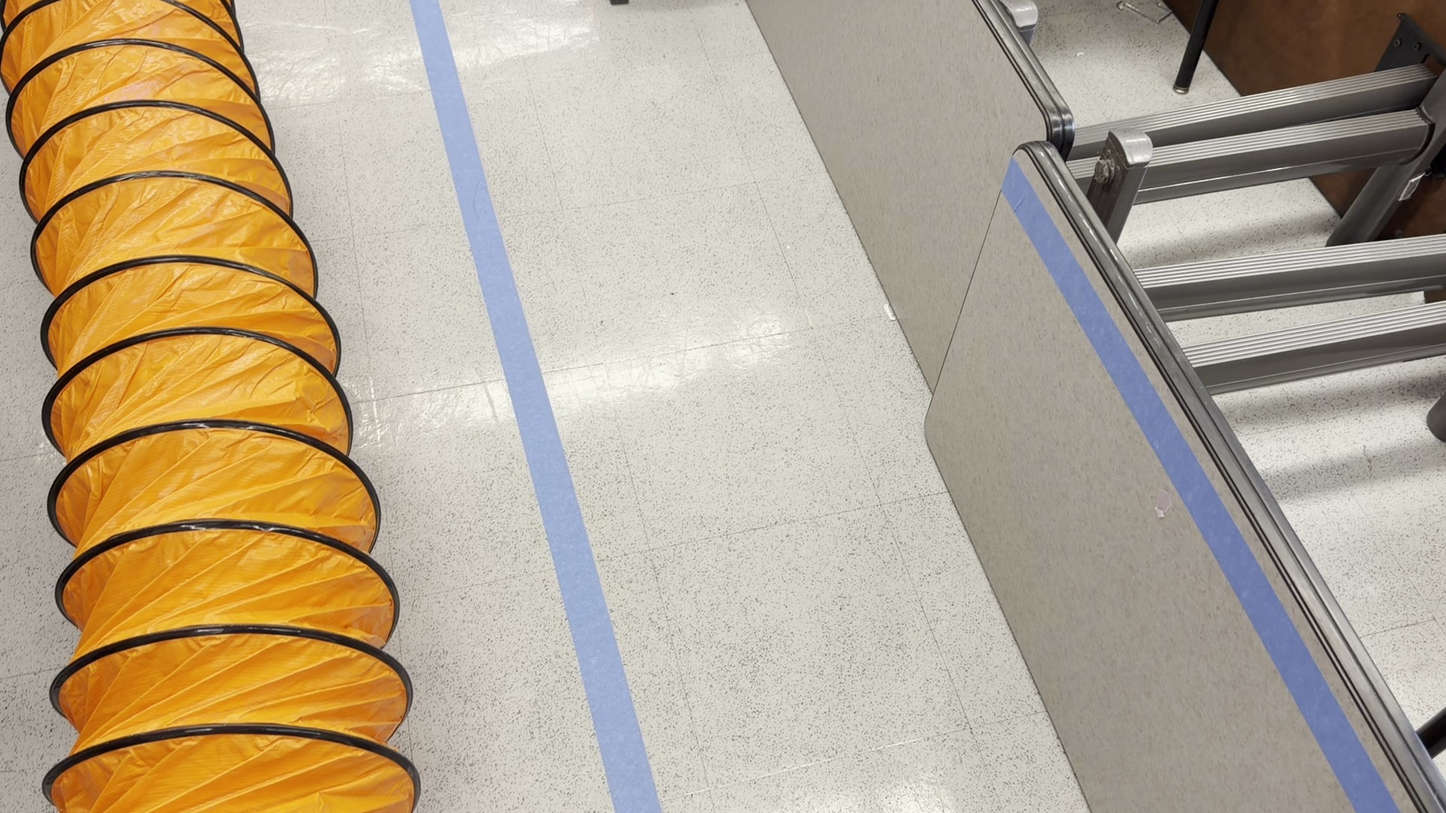racecar: (735, 0, 1444, 812)
